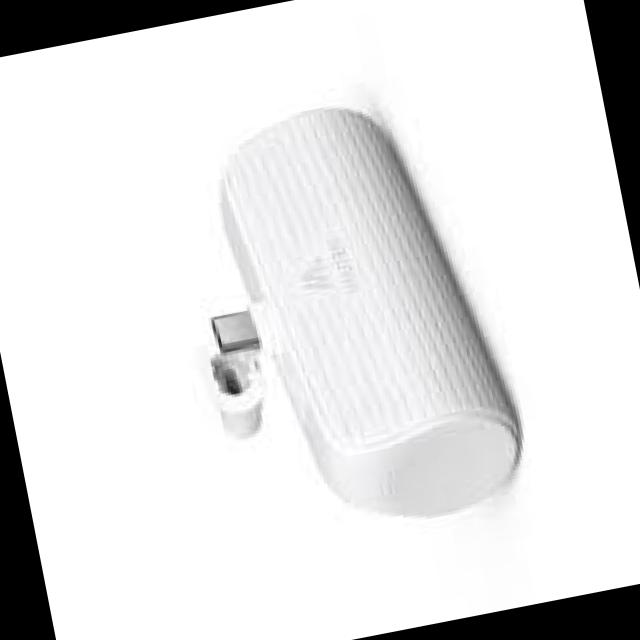portable-charger: (158, 78, 539, 554)
